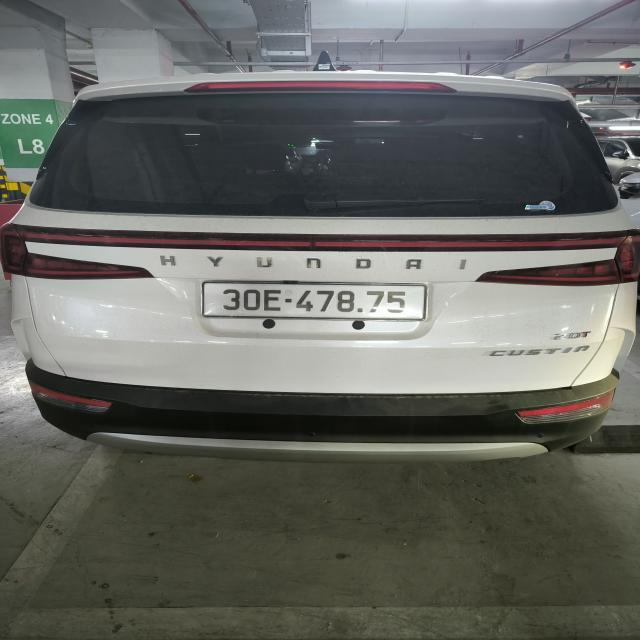license: (201, 280, 427, 320)
